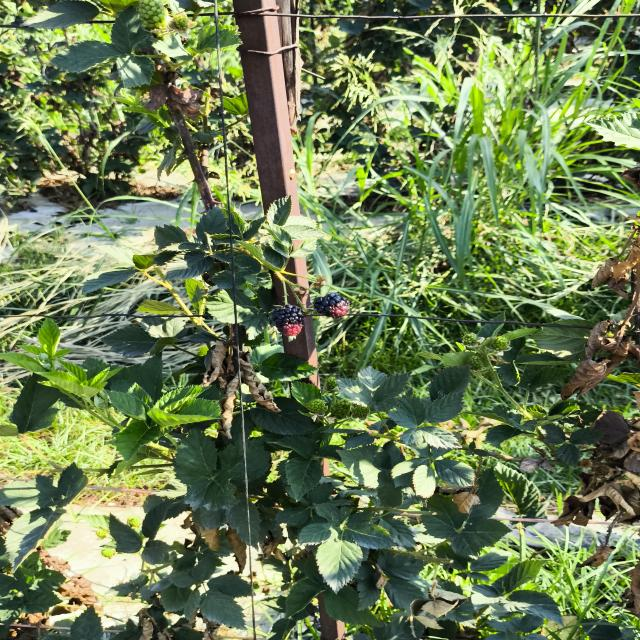marron: (271, 304, 305, 337), (314, 292, 349, 318)
